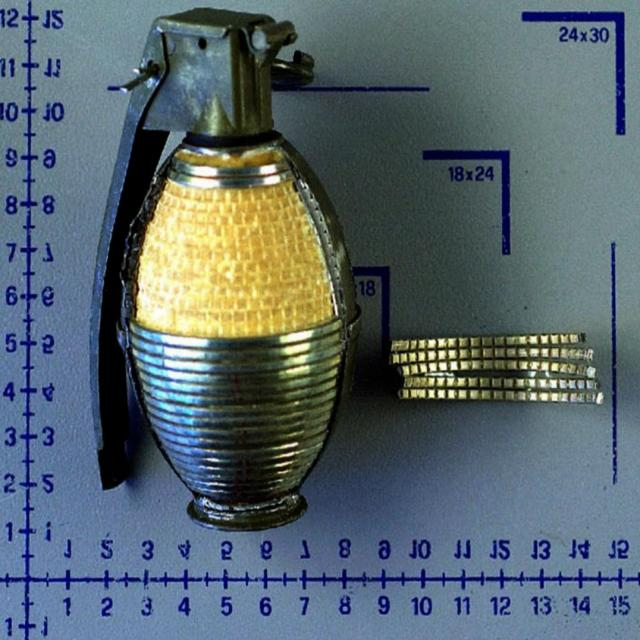grenade: (90, 9, 365, 532)
